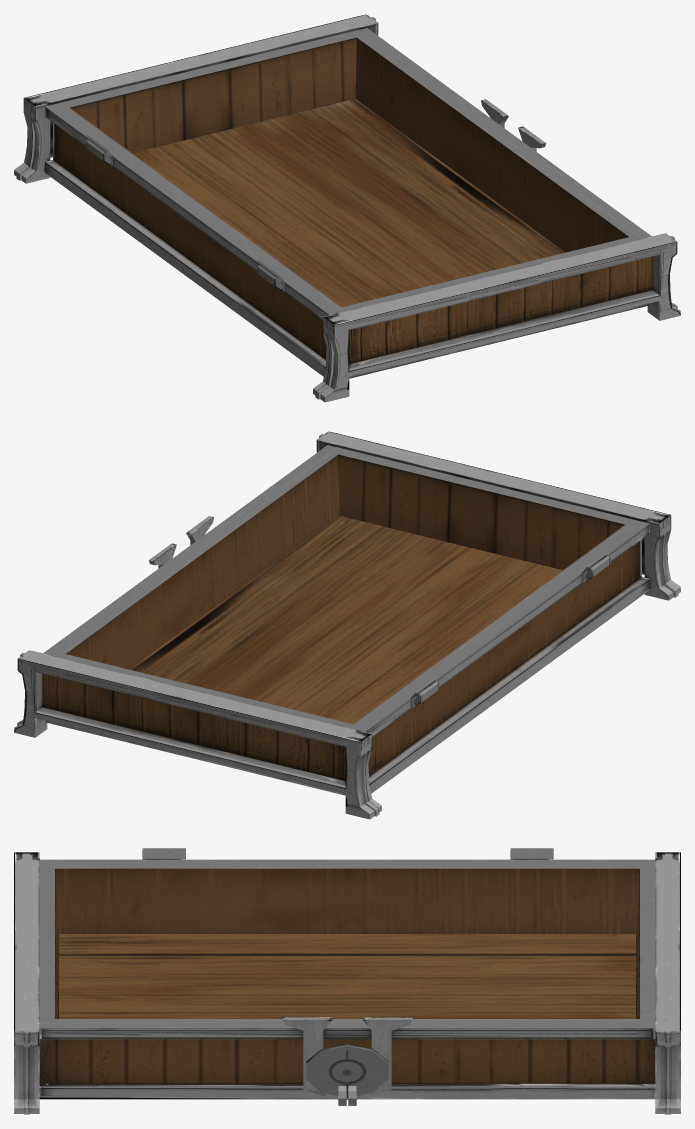
Rendered from ChestBottom.fbx.
3 renders of one model, top to bottom at view 1: azimuth 30°, elevation 25°; view 2: azimuth 150°, elevation 25°; view 3: azimuth 270°, elevation 25°, orthographic. The views are drawn at different scales.
Parts seen in each view (by area): view 1: Loot_16; view 2: Loot_16; view 3: Loot_16.
Boxes of the visible parts, box(x1,y1,x2,y2) form: Loot_16: box(14, 14, 680, 402); Loot_16: box(14, 431, 680, 819); Loot_16: box(14, 848, 680, 1114).
Bounding box in the file's own units: 38.97 × 8.56 × 58.03.
